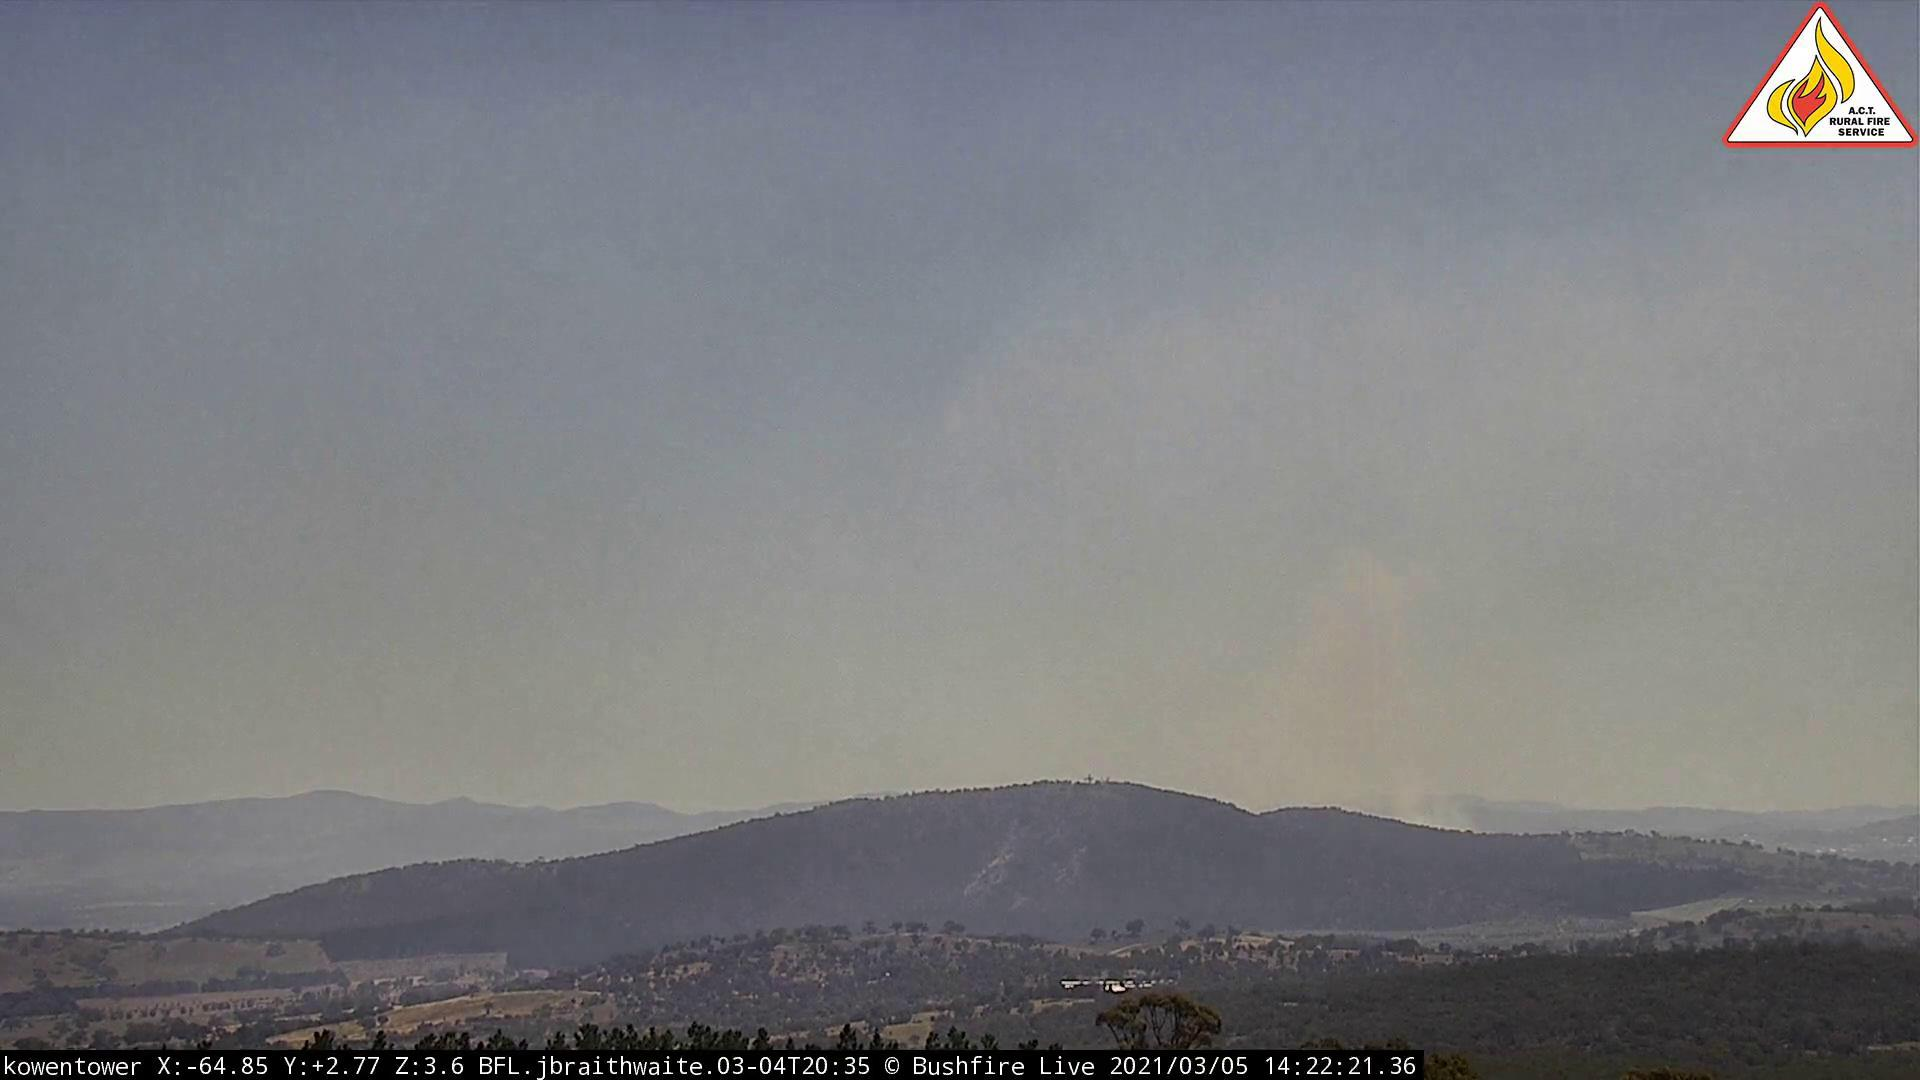Smoke: (1221, 549, 1486, 841)
